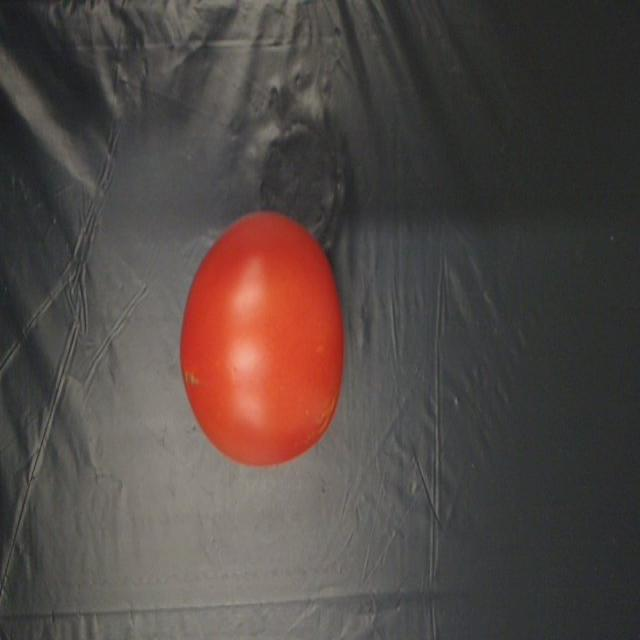kirmizi: (177, 215, 362, 461)
